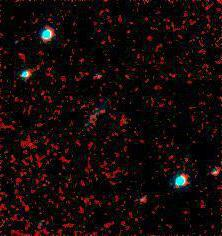star: (89, 95, 119, 125)
